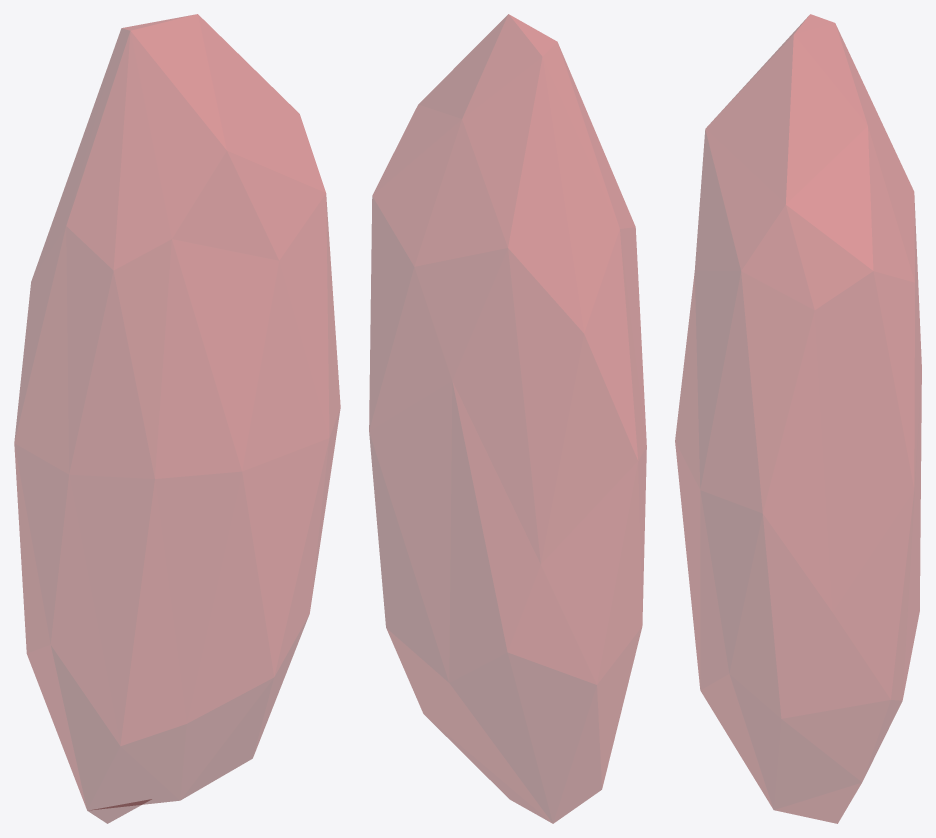
The model's file is gem.glb.
The picture shows the model from 3 angles, left to right: view 1: azimuth 30°, elevation 25°; view 2: azimuth 150°, elevation 25°; view 3: azimuth 270°, elevation 25°; orthographic projection. The views are drawn at different scales.
Visible parts, largest first — view 1: Object_2; view 2: Object_2; view 3: Object_2.
Boxes of the visible parts, x1,y1,x2,y2 form: Object_2: [14, 14, 340, 823]; Object_2: [369, 14, 646, 823]; Object_2: [675, 14, 921, 823].
Size of the model in its own units: 1.69 by 4.55 by 1.25.
